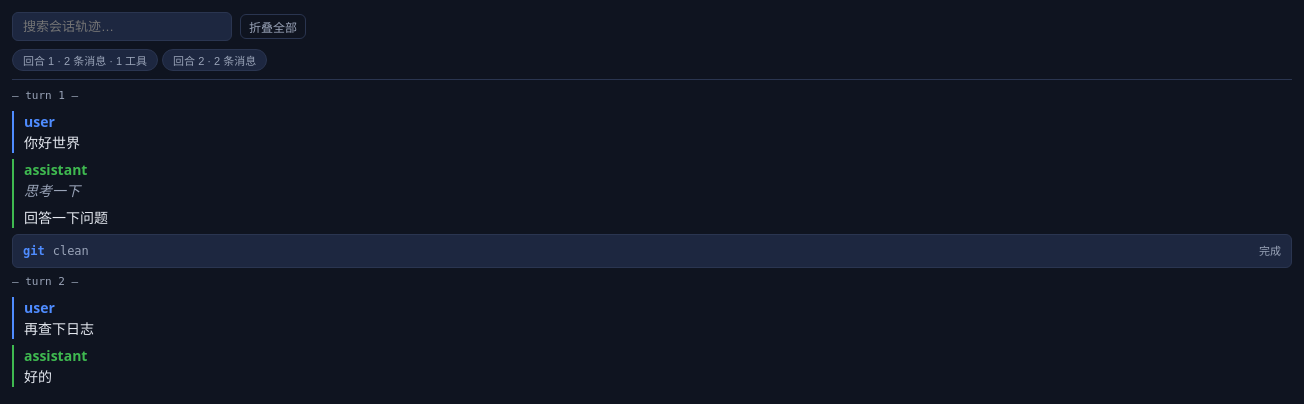
Test case: Trajectory search › filters rows, shows hit count and highlights matches
The image size is (1304, 404).
Step 1. Type "回答" into the field with class "searchbox" → (122, 26), box [12, 12, 232, 41]
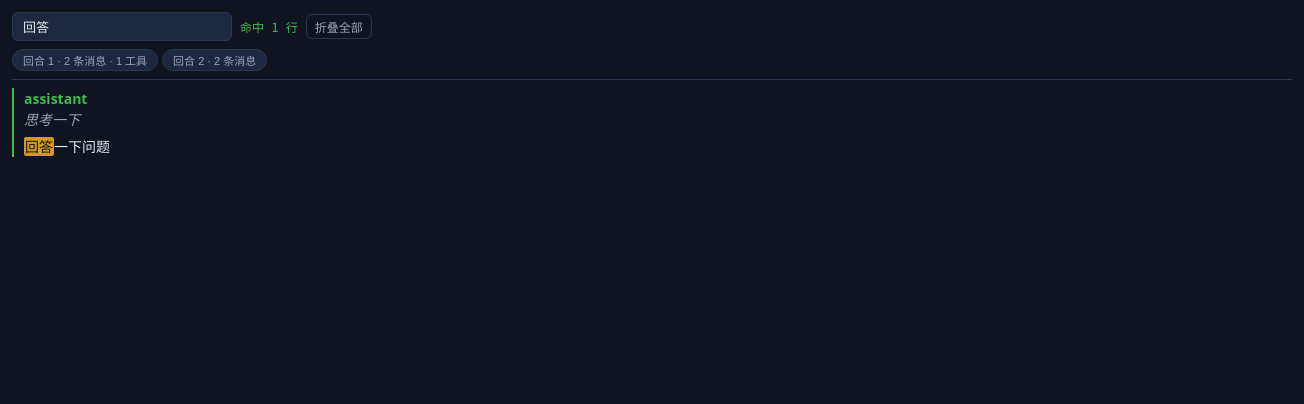
Now the text "命中 1 行" is shown, box [240, 18, 298, 35]
